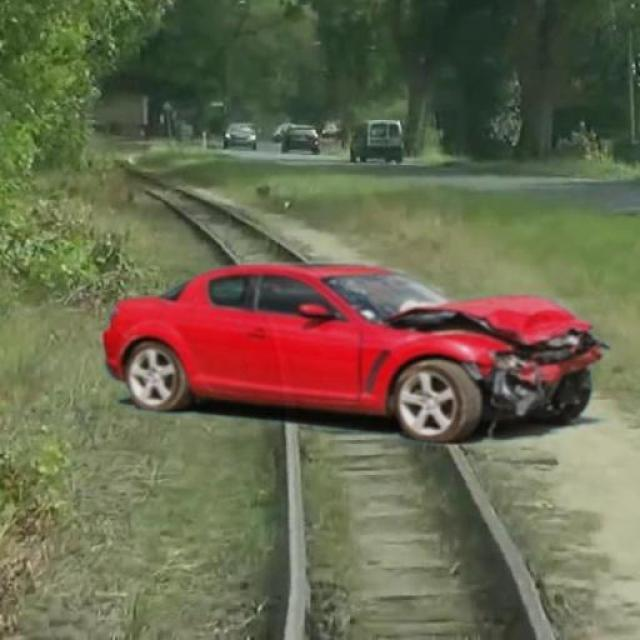vehicle: (94, 254, 600, 441), (349, 118, 415, 166), (281, 120, 333, 160), (221, 119, 260, 152)
